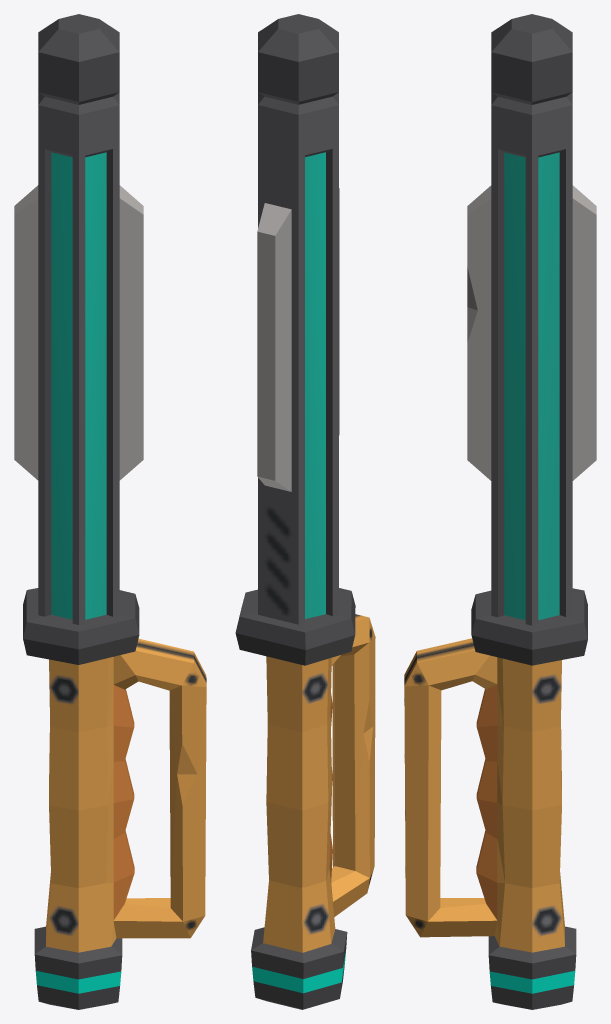
The model's file is SM_Wep_Shock_Stick_05.fbx.
3 renders of one model, left to right at view 1: azimuth 90°, elevation 25°; view 2: azimuth 150°, elevation 25°; view 3: azimuth 270°, elevation 25°, orthographic.
Parts seen in each view (by area): view 1: SM_Wep_Shock_Stick_05; view 2: SM_Wep_Shock_Stick_05; view 3: SM_Wep_Shock_Stick_05.
Boxes of the visible parts, left/top/right/bottom form: SM_Wep_Shock_Stick_05: left=14, top=14, right=206, bottom=1009; SM_Wep_Shock_Stick_05: left=235, top=14, right=375, bottom=1009; SM_Wep_Shock_Stick_05: left=404, top=14, right=596, bottom=1009.
Bounding box in the file's own units: 11.94 × 97.62 × 17.5.
